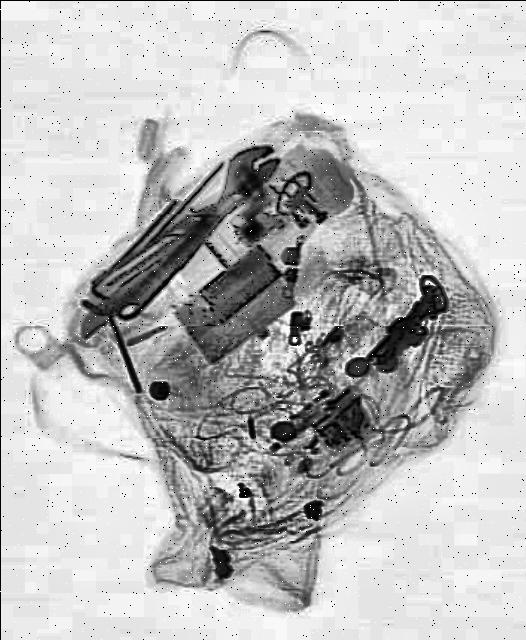Wrench: (99, 130, 286, 336)
